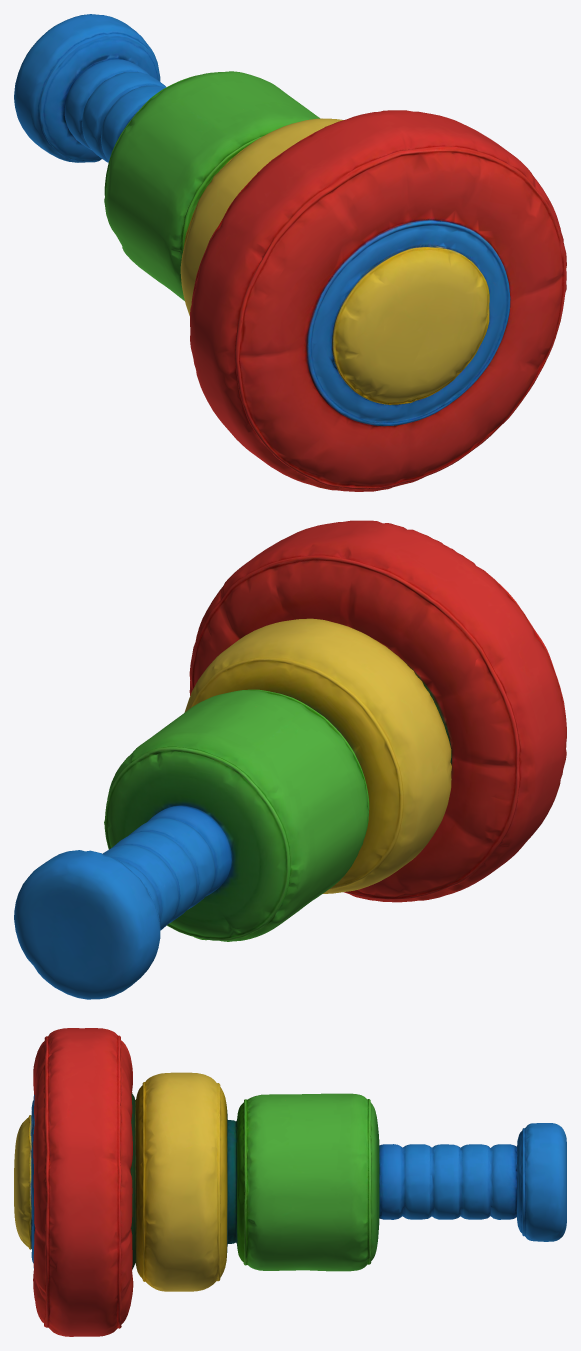
The model's file is piston_pad.glb.
3 views of the same model, one above another, from view 1: azimuth 30°, elevation 25°; view 2: azimuth 150°, elevation 25°; view 3: azimuth 270°, elevation 25° (orthographic). The views are drawn at different scales.
Visible parts, largest first — view 1: tripo_node_4759edd5-92aa-410f-a6f7-06f06a902dc9; view 2: tripo_node_4759edd5-92aa-410f-a6f7-06f06a902dc9; view 3: tripo_node_4759edd5-92aa-410f-a6f7-06f06a902dc9.
Part boxes in pixels (x1=…): tripo_node_4759edd5-92aa-410f-a6f7-06f06a902dc9: x1=14, y1=14, x2=566, y2=491; tripo_node_4759edd5-92aa-410f-a6f7-06f06a902dc9: x1=14, y1=520, x2=566, y2=999; tripo_node_4759edd5-92aa-410f-a6f7-06f06a902dc9: x1=14, y1=1028, x2=566, y2=1336.
Bounding box in the file's own units: 0.5151 × 0.5 × 0.8875.
Materials: 1 (1 with a texture image).
